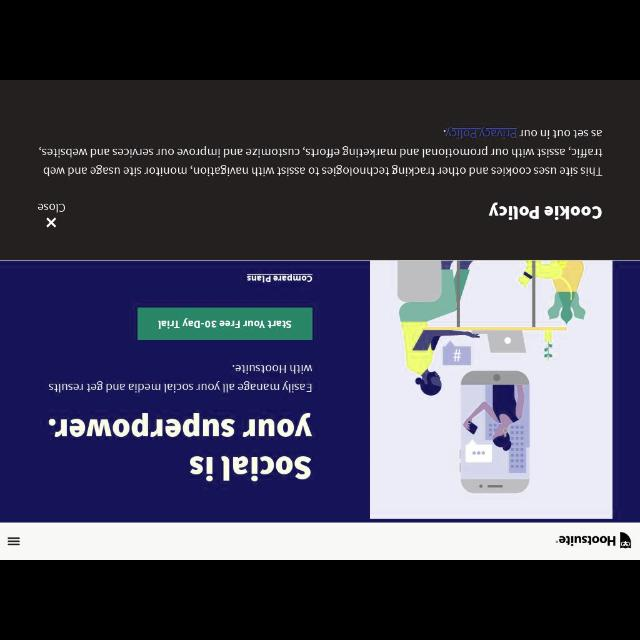icon: (7, 536, 21, 546), (45, 217, 57, 227)
image: (370, 259, 612, 517), (556, 532, 632, 550)
link: (444, 128, 518, 142)
text: (38, 126, 602, 178), (48, 412, 312, 482), (48, 364, 312, 394), (489, 203, 603, 219), (156, 318, 292, 328), (247, 274, 313, 282), (37, 202, 64, 212)
textbutton: (138, 308, 312, 340)
toolbar: (1, 522, 639, 560)
